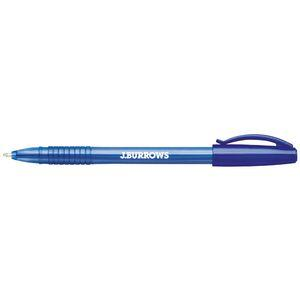pen: (1, 132, 300, 168)
